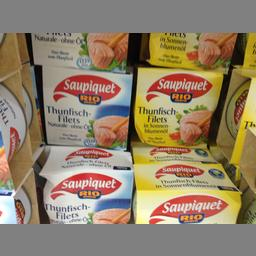fish: (38, 63, 132, 150), (134, 66, 223, 148), (133, 160, 240, 223), (38, 151, 132, 222)
